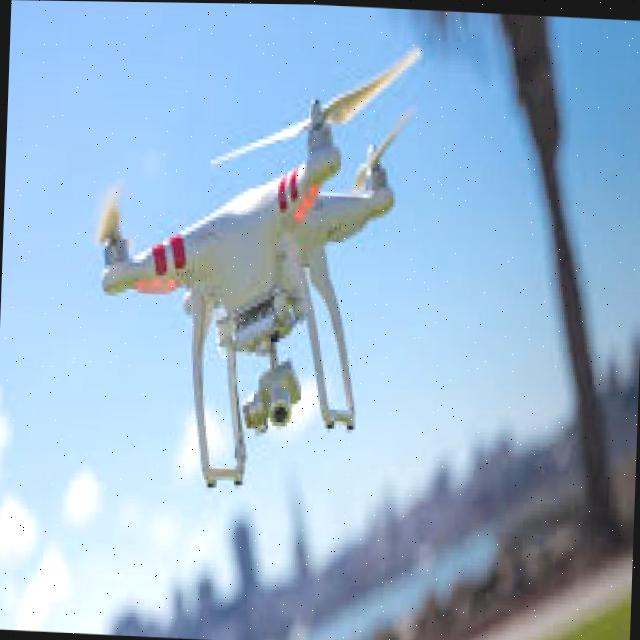drone: (83, 46, 416, 500)
